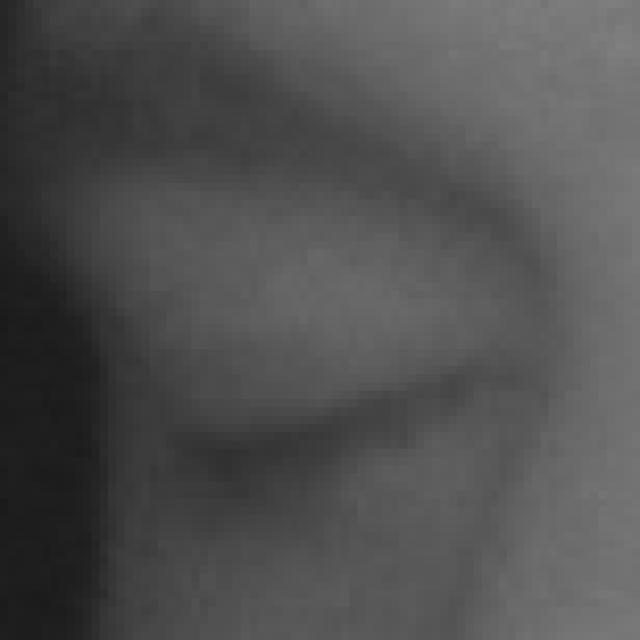Eyeclosed: (151, 232, 492, 624)
